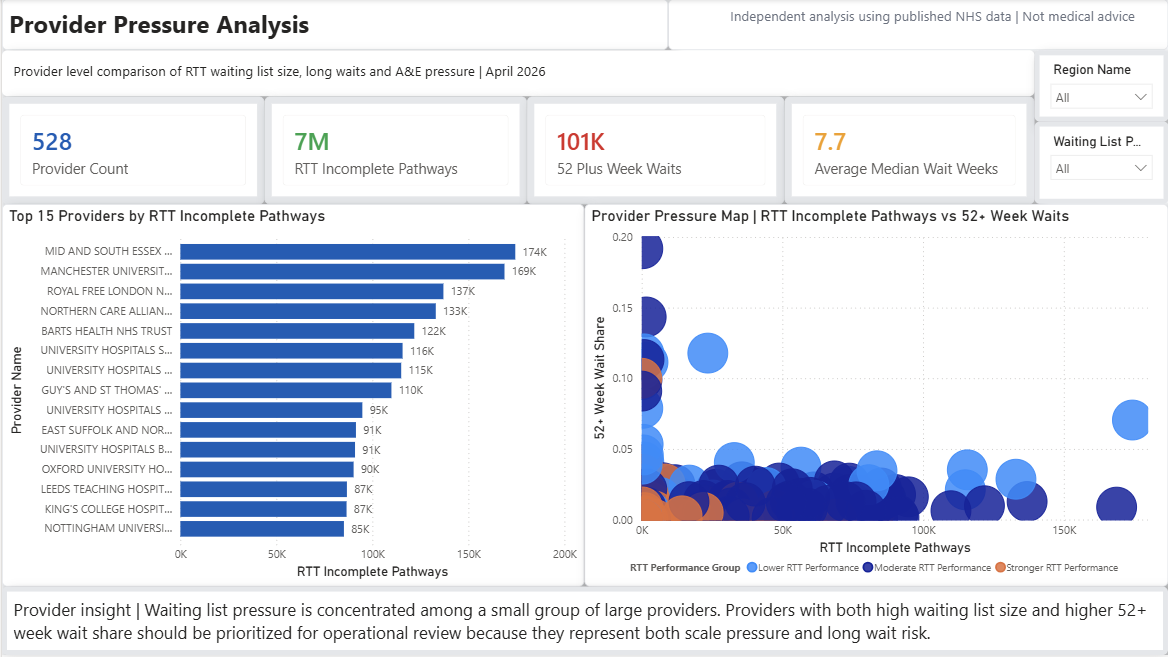

Layout of this report page (visuals, bound fields, positions):
{"tool":"powerbi","page":{"name":"Provider Pressure Analysis","canvas":[1280,720],"ordinal":1},"visuals":[{"type":"textbox","box":[0,0,731.4,56.3],"z":0},{"type":"textbox","box":[0,56.3,1133.5,50.8],"z":1000},{"type":"textbox","box":[731.4,0,548.9,56.3],"z":2000},{"type":"cardVisual","fields":{"Data":["Key Measures.Provider Count"]},"box":[0,107,288.2,118],"z":3000},{"type":"cardVisual","fields":{"Data":["Key Measures.Total Waiting List"]},"box":[288.2,107,288.2,118],"z":4000},{"type":"cardVisual","fields":{"Data":["Key Measures.52 Plus Week Waits"]},"box":[576.3,107,282.7,118],"z":5000},{"type":"cardVisual","fields":{"Data":["Key Measures.Average Median Wait Weeks"]},"box":[859,107,274.4,118],"z":6000},{"type":"clusteredBarChart","title":"Top 15 Providers by RTT Incomplete Pathways","fields":{"Y":["Key Measures.Total Waiting List"],"Category":["Provider Pressure.provider_name"]},"box":[0,225,639.5,419.9],"z":7000},{"type":"scatterChart","title":"Provider Pressure Map | RTT Incomplete Pathways vs 52+ Week Waits","fields":{"X":["Sum(Provider Pressure.total_incomplete_pathways)"],"Size":["CountNonNull(Provider Pressure.total_ae_attendances)"],"Category":["Provider Pressure.provider_name"],"Series":["Provider Pressure.rtt_performance_group"],"Y":["Key Measures.52 Plus Week Waits %"]},"box":[639.5,225,640.8,419.9],"z":8000},{"type":"slicer","fields":{"Values":["Provider Pressure.region_name"]},"box":[1133.5,56.3,146.8,78.2],"z":9000},{"type":"slicer","fields":{"Values":["Provider Pressure.waiting_list_pressure_group"]},"box":[1133.5,134.5,146.8,90.6],"z":10000},{"type":"textbox","box":[0,644.9,1280.3,75.5],"z":11000}]}

Visuals, with their boxes in screenshot pixels (x1, y1, x2, y2), scaled from the page's 1280x720 canvas onto the 1168x657 screenshot:
textbox: bbox=[0, 0, 667, 51]
textbox: bbox=[0, 51, 1034, 98]
textbox: bbox=[667, 0, 1167, 51]
cardVisual - Key Measures.Provider Count: bbox=[0, 98, 263, 205]
cardVisual - Key Measures.Total Waiting List: bbox=[263, 98, 526, 205]
cardVisual - Key Measures.52 Plus Week Waits: bbox=[526, 98, 784, 205]
cardVisual - Key Measures.Average Median Wait Weeks: bbox=[784, 98, 1034, 205]
"Top 15 Providers by RTT Incomplete Pathways" clusteredBarChart: bbox=[0, 205, 584, 588]
"Provider Pressure Map | RTT Incomplete Pathways vs 52+ Week Waits" scatterChart: bbox=[584, 205, 1167, 588]
slicer - Provider Pressure.region_name: bbox=[1034, 51, 1167, 123]
slicer - Provider Pressure.waiting_list_pressure_group: bbox=[1034, 123, 1167, 205]
textbox: bbox=[0, 588, 1167, 656]
